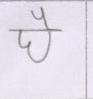ai_matra: (31, 7, 54, 28)
